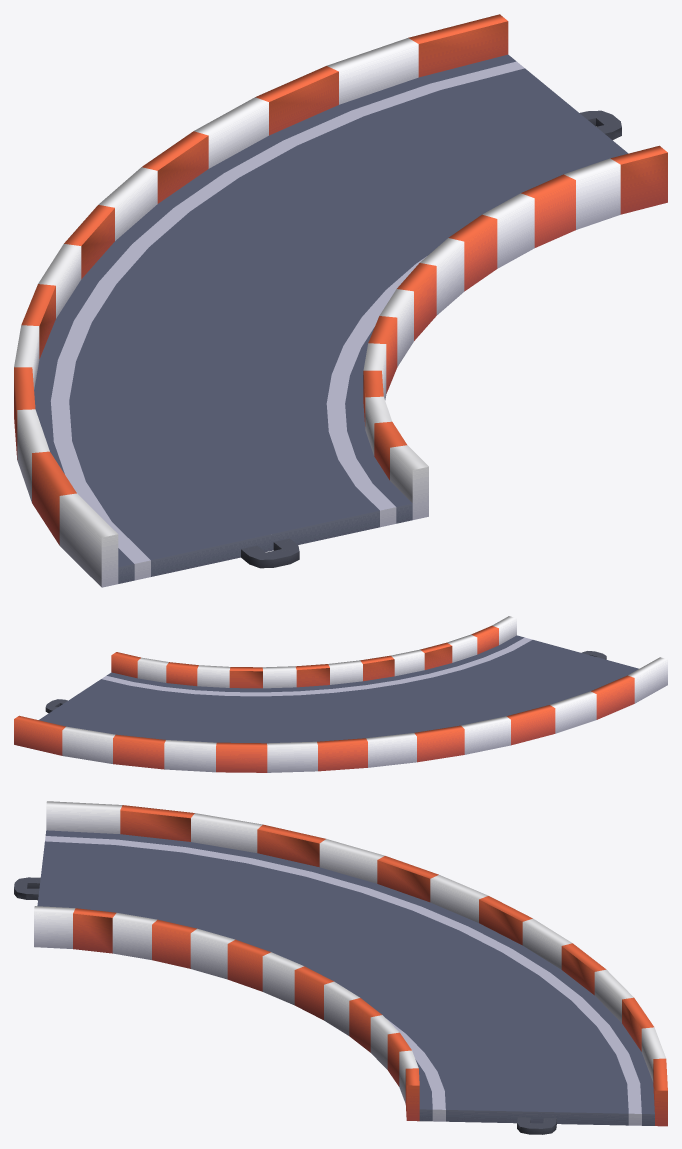
File: track-road-wide-corner-large.021_lev2.glb
3 renders of one model, top to bottom at view 1: azimuth 30°, elevation 25°; view 2: azimuth 150°, elevation 25°; view 3: azimuth 270°, elevation 25°, orthographic. The views are drawn at different scales.
Parts seen in each view (by area): view 1: track-road-wide-corner-large.021_lev2; view 2: track-road-wide-corner-large.021_lev2; view 3: track-road-wide-corner-large.021_lev2.
Part boxes in pixels (x1=…): track-road-wide-corner-large.021_lev2: x1=14, y1=14, x2=667, y2=587; track-road-wide-corner-large.021_lev2: x1=14, y1=616, x2=667, y2=772; track-road-wide-corner-large.021_lev2: x1=14, y1=801, x2=667, y2=1134.
Bounding box in the file's own units: 5.39 × 0.3 × 5.
Materials: 1 (1 with a texture image).
